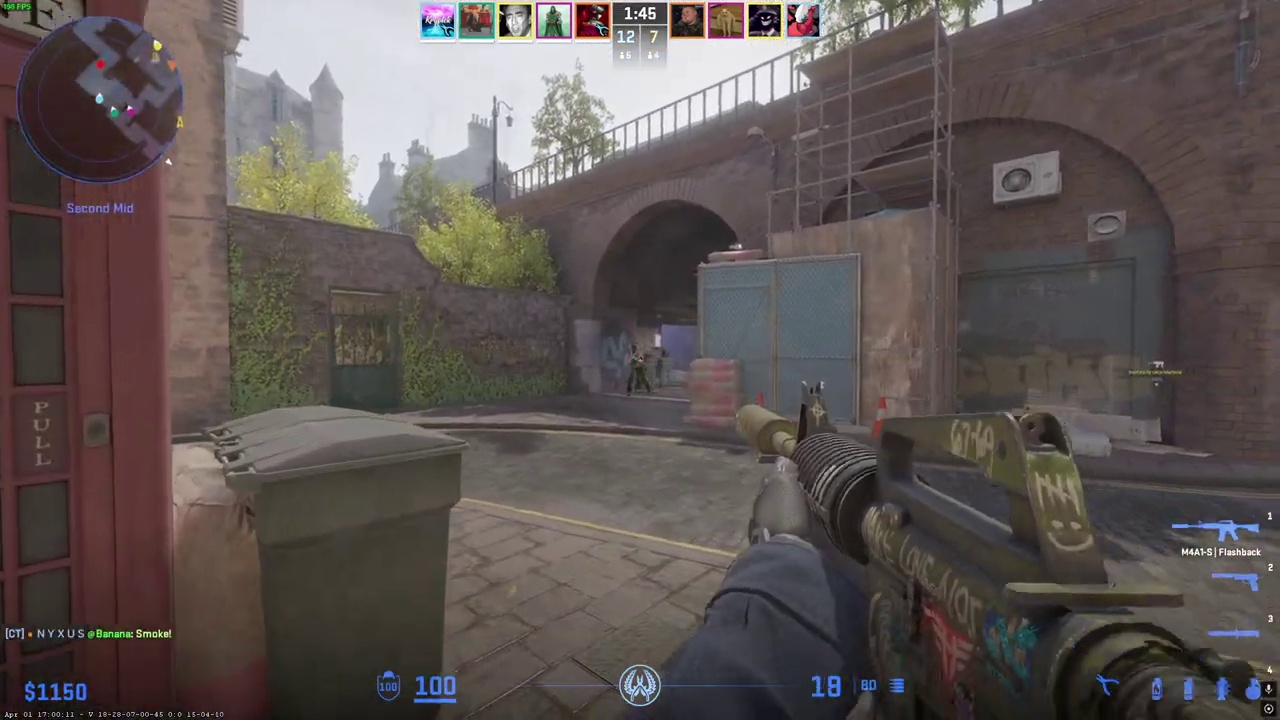Terrorist: (626, 345, 647, 394)
